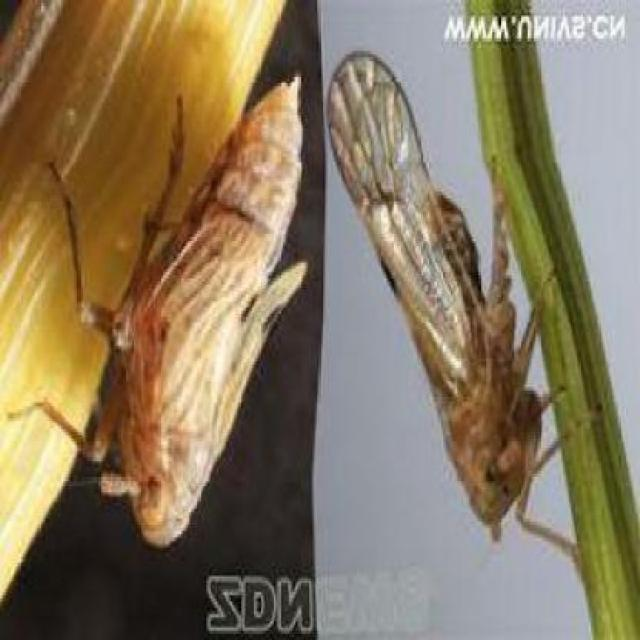brown-planthopper: (68, 66, 314, 552), (326, 51, 548, 543)
